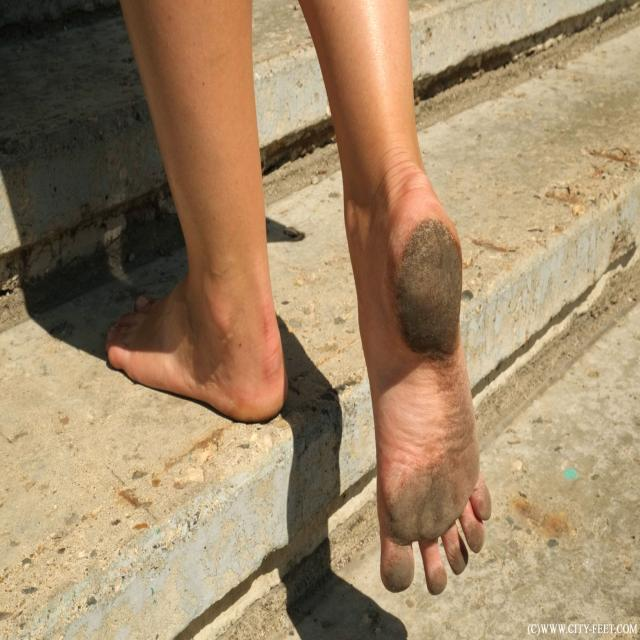Barefoots: (367, 189, 492, 596), (107, 290, 289, 424)
